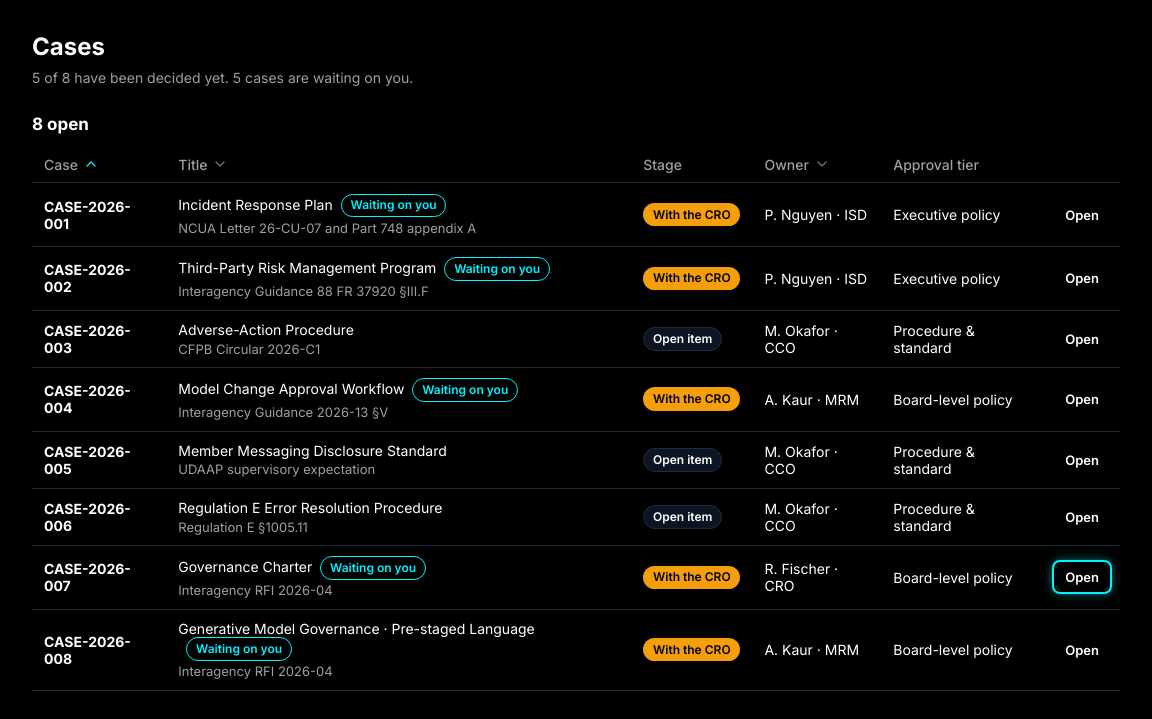
AC-r05-2 — export control is the ghost Button (P2), never competing with the per-type primary verb › the side-car renders exactly one variant="primary" Button total, and it is not the export control
This screenshot has width=1152, height=719.
expect the text "CASE-2026-007" is shown: met, box [44, 560, 131, 594]
Click the button "Open" in the row of "CASE-2026-007" at x=1082, y=577, box [1056, 564, 1108, 590]
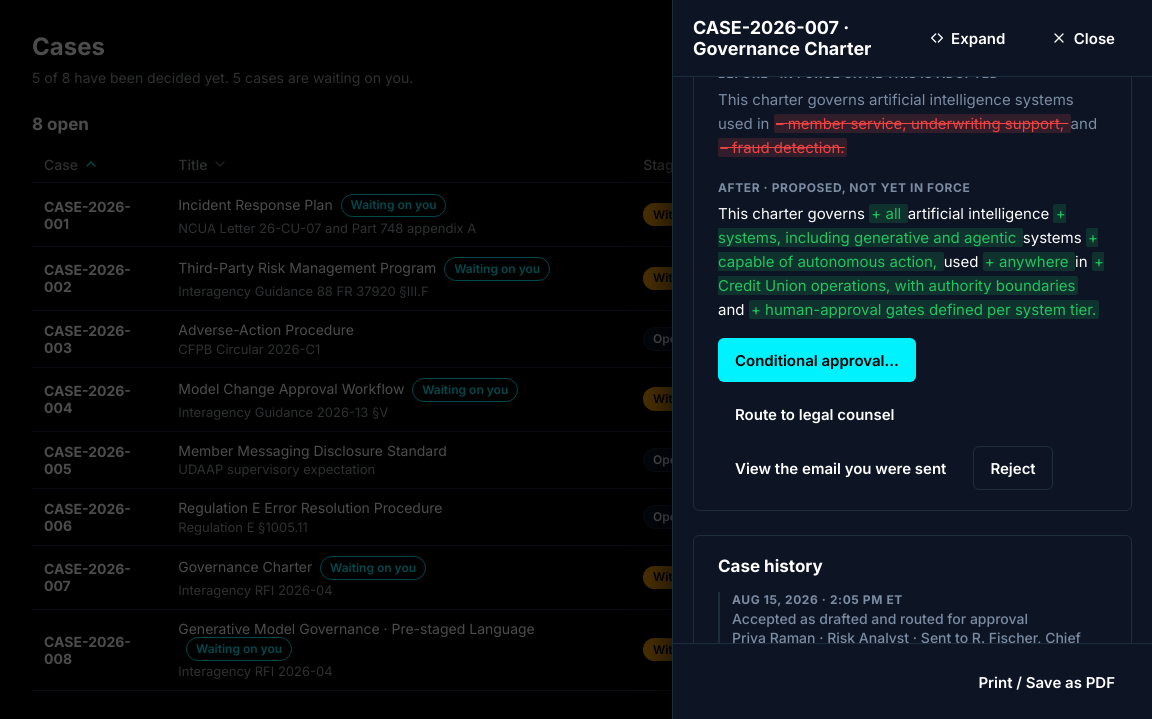
expect the text "Print / Save as PDF" is not shown: met
expect the button "Conditional approval…" is shown: met, box [718, 338, 916, 382]
